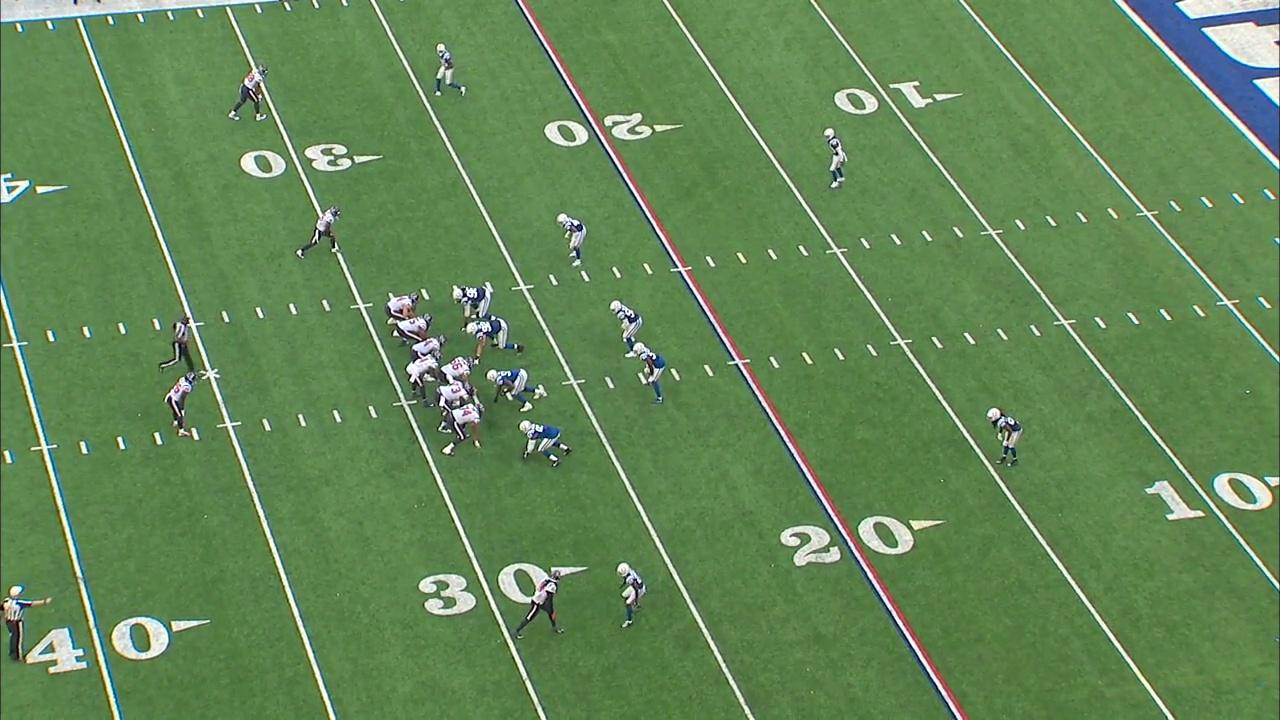player: (510, 568, 566, 644), (485, 367, 549, 413), (516, 420, 576, 469), (294, 203, 345, 260), (462, 317, 527, 360), (610, 559, 648, 632), (437, 402, 487, 457), (226, 65, 272, 124), (162, 370, 201, 439), (429, 42, 473, 101), (985, 406, 1023, 472), (403, 349, 444, 410), (631, 340, 670, 404), (447, 283, 500, 329), (407, 332, 448, 384), (611, 298, 644, 360), (819, 125, 850, 190), (554, 211, 588, 269), (435, 380, 477, 420), (383, 290, 423, 327), (395, 310, 435, 347), (437, 354, 479, 386)
ref: (0, 583, 56, 665), (158, 313, 198, 381)
